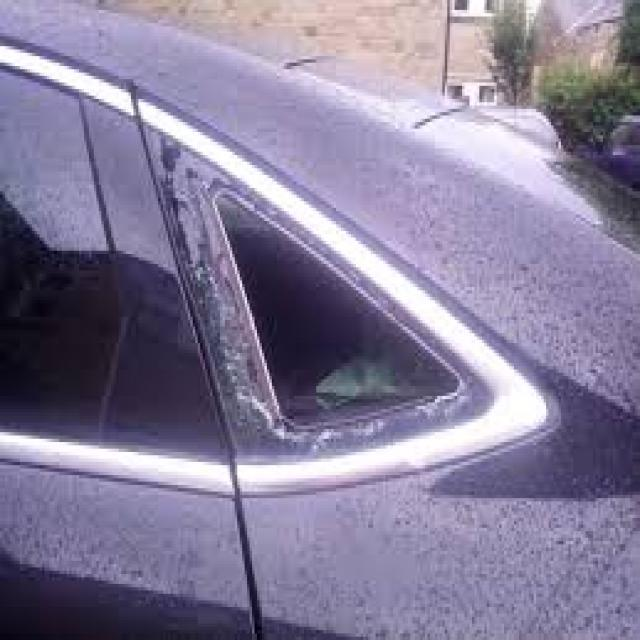damaged-window: (148, 116, 484, 459)
